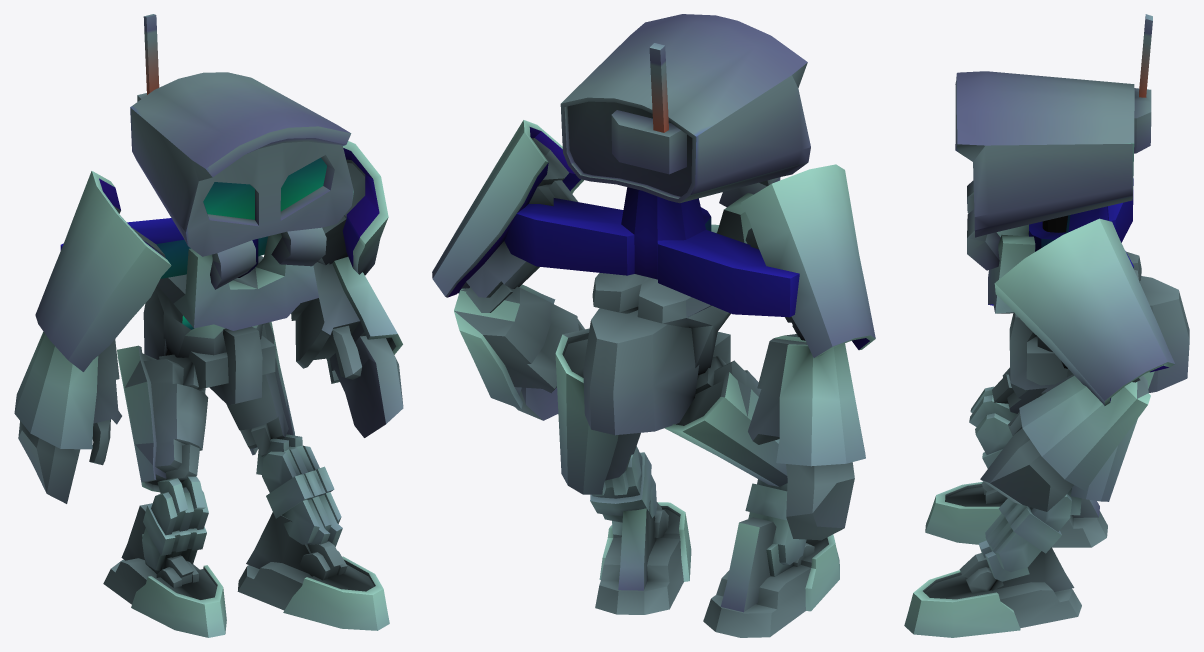
Rendered from mech-002.glb.
The picture shows the model from 3 angles, left to right: view 1: azimuth 30°, elevation 25°; view 2: azimuth 150°, elevation 25°; view 3: azimuth 270°, elevation 25°; orthographic projection. The views are drawn at different scales.
Parts seen in each view (by area): view 1: Cube1_extract3; view 2: Cube1_extract3; view 3: Cube1_extract3.
Boxes of the visible parts, x1,y1,x2,y2 form: Cube1_extract3: (14,14,403,637); Cube1_extract3: (432,14,875,637); Cube1_extract3: (904,14,1189,637).
Size of the model in its own units: 17.22 by 25.29 by 11.73.
Materials: 1 (1 with a texture image).
